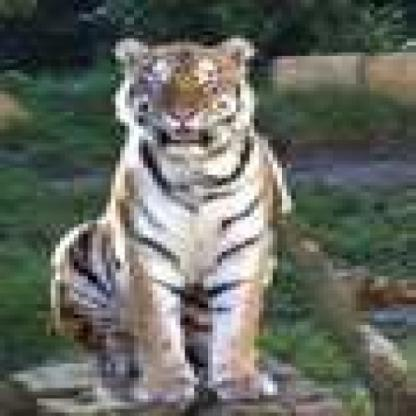Tiger: (50, 20, 295, 399)
